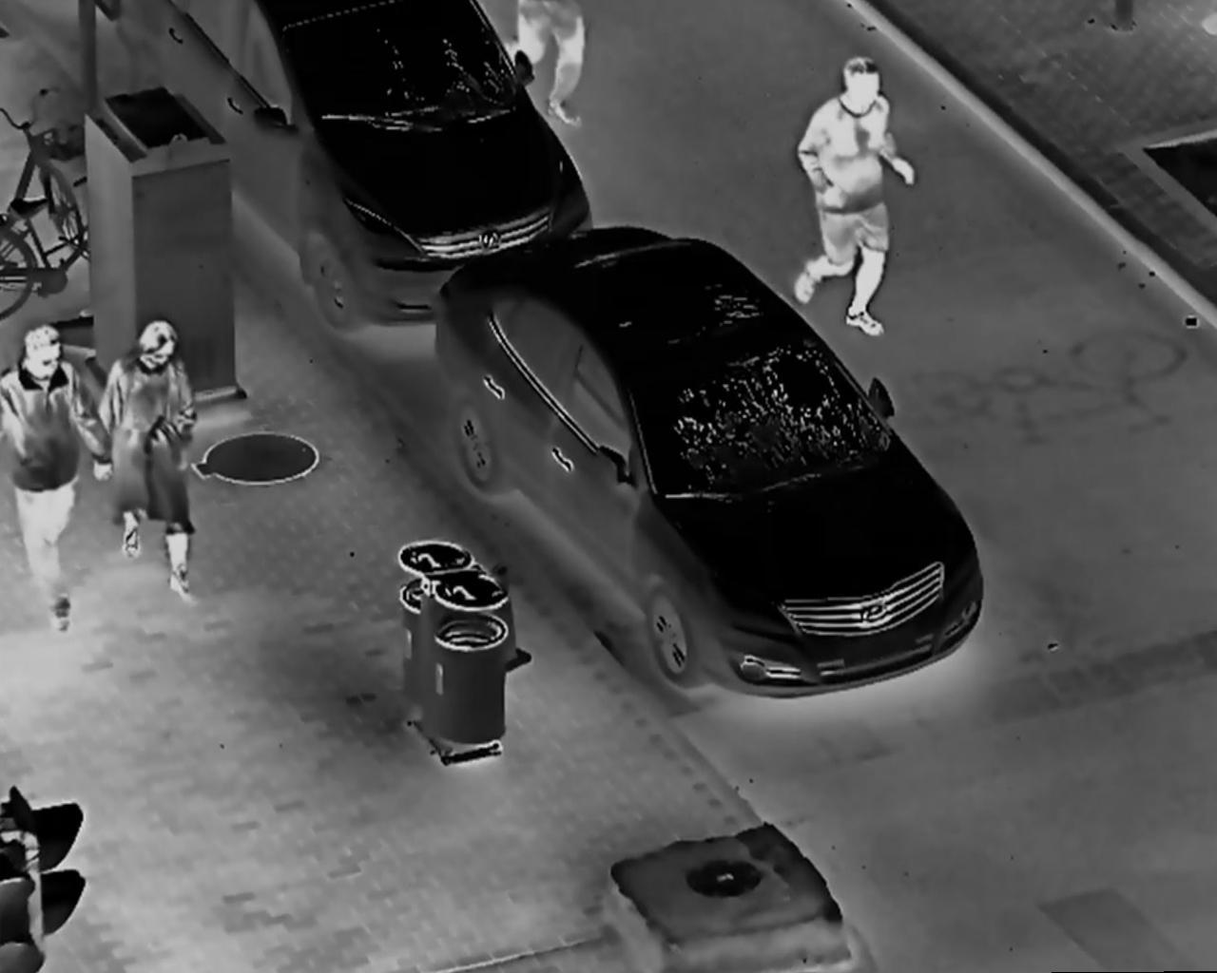person: (795, 54, 918, 337), (98, 318, 200, 604)
